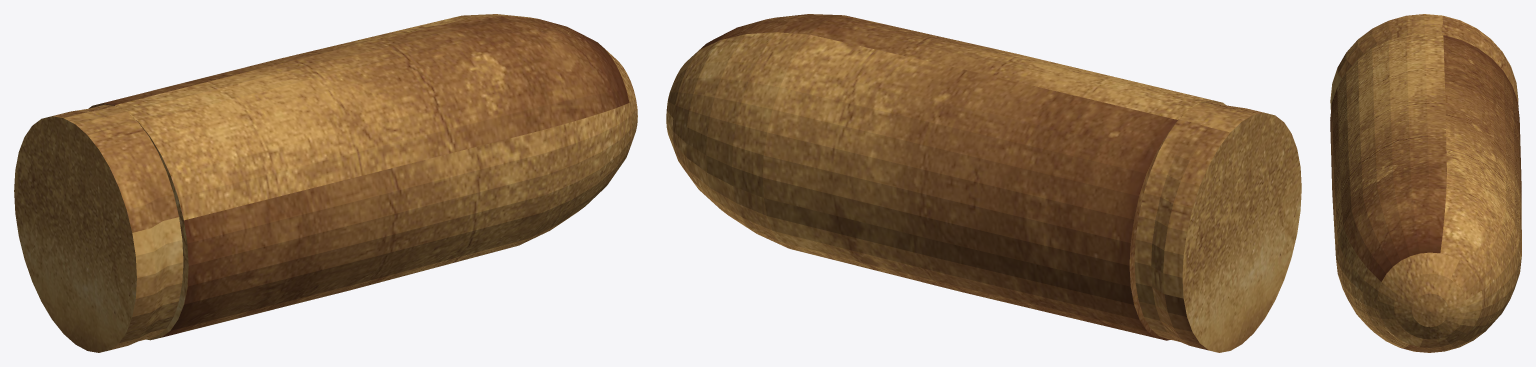
File: bullet.obj
3 renders of one model, left to right at view 1: azimuth 30°, elevation 25°; view 2: azimuth 150°, elevation 25°; view 3: azimuth 270°, elevation 25°, orthographic. The views are drawn at different scales.
Visible parts, largest first — view 1: Sphere; view 2: Sphere; view 3: Sphere.
Part boxes in pixels (x1=…): Sphere: x1=14, y1=14, x2=637, y2=352; Sphere: x1=666, y1=14, x2=1301, y2=352; Sphere: x1=1330, y1=14, x2=1521, y2=352.
Bounding box in the file's own units: 0.8932 × 0.3371 × 0.3408.
